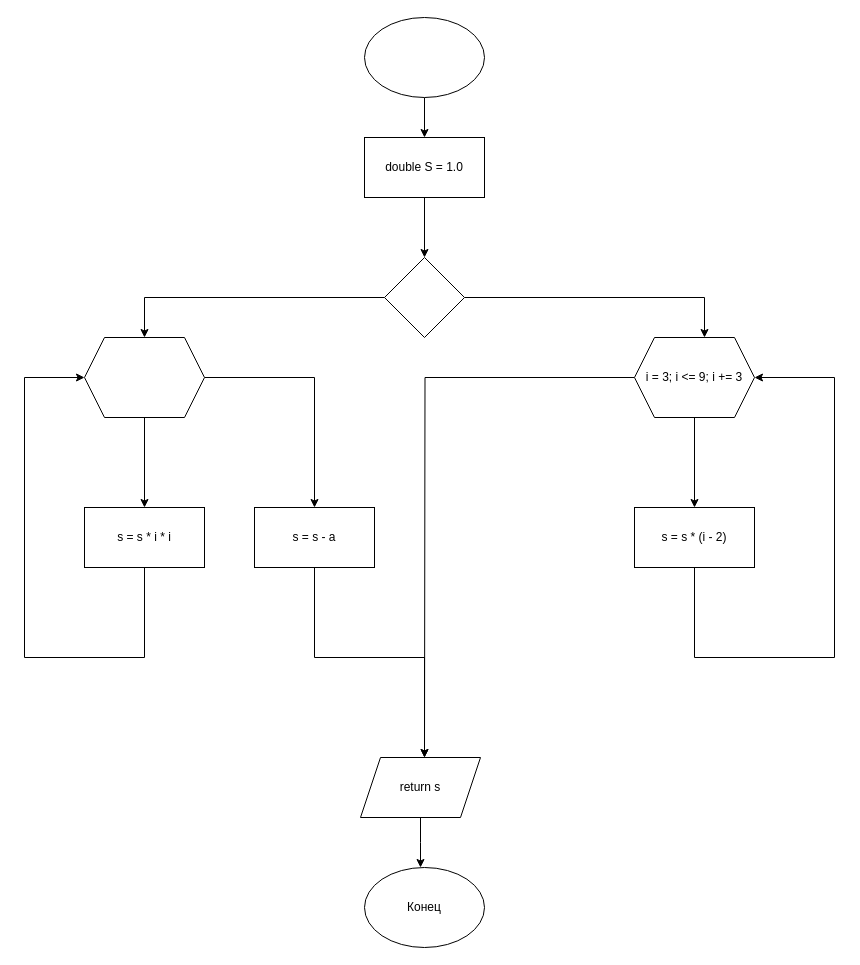
Image size: 860x965. Some labels were removed from this diagram. Here are the shapes that lost their labels. From the top down, the centre of each, then its label:
(x=424, y=57): Начало S(a)
(x=424, y=297): a >= 0
(x=144, y=377): i = 2; i <= 9; i += 2
